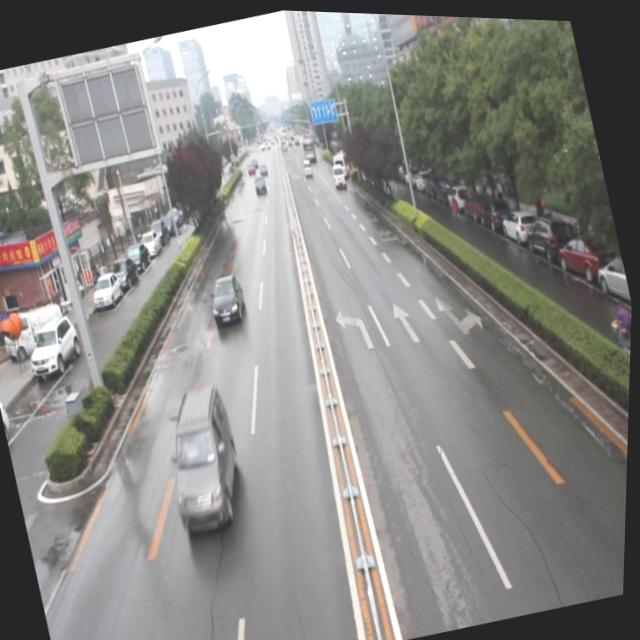car: (204, 267, 251, 327), (253, 170, 269, 195)
truck: (153, 377, 259, 538), (330, 161, 350, 190)
